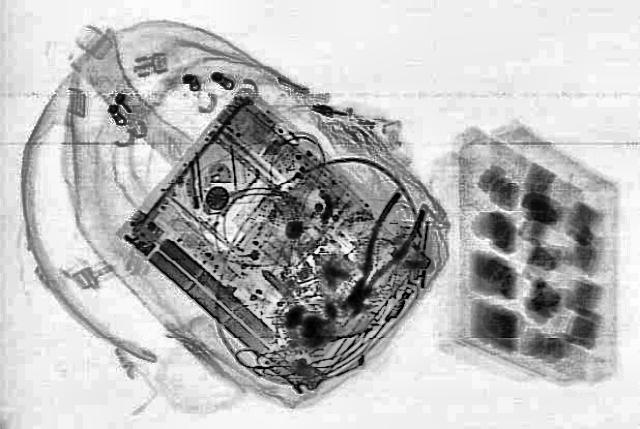Pliers: (328, 190, 437, 312)
